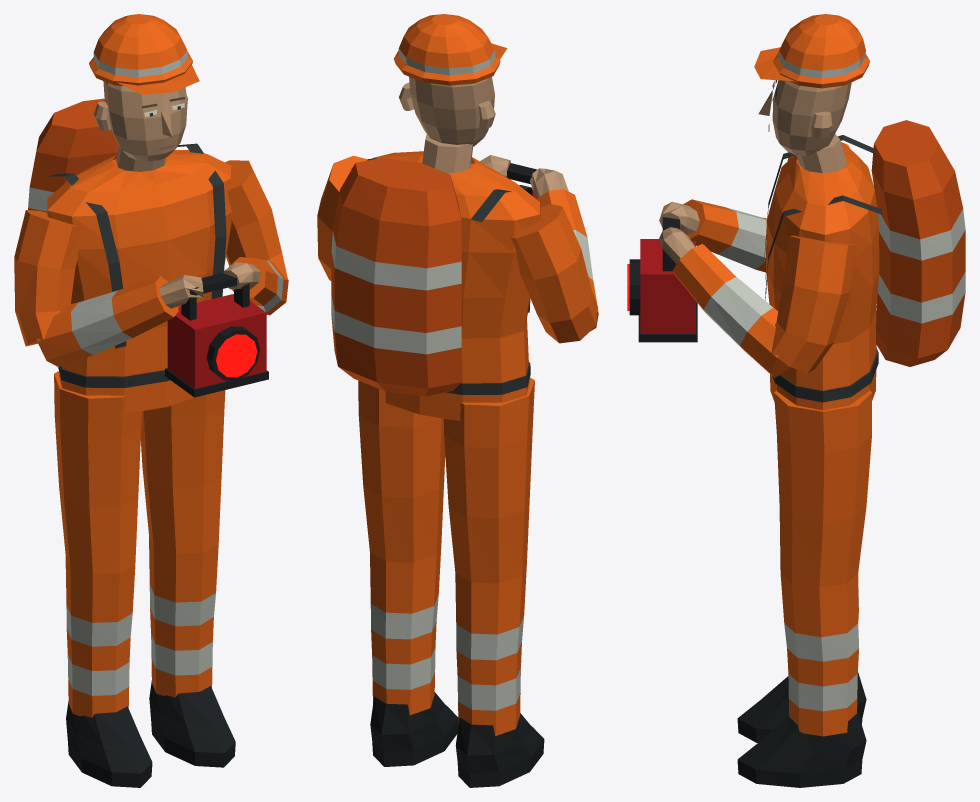
File: obhodchik.glb
3 renders of one model, left to right at view 1: azimuth 30°, elevation 25°; view 2: azimuth 150°, elevation 25°; view 3: azimuth 270°, elevation 25°, orthographic. The views are drawn at different scales.
Visible parts, largest first — view 1: Orange_Inspector_RedLantern; view 2: Orange_Inspector_RedLantern; view 3: Orange_Inspector_RedLantern.
Part boxes in pixels (left/top/right/bottom): Orange_Inspector_RedLantern: left=14, top=14, right=288, bottom=787; Orange_Inspector_RedLantern: left=317, top=14, right=598, bottom=787; Orange_Inspector_RedLantern: left=627, top=14, right=965, bottom=787.
Size of the model in its own units: 0.6573 by 1.75 by 0.731.
Materials: 1 (1 with a texture image).
